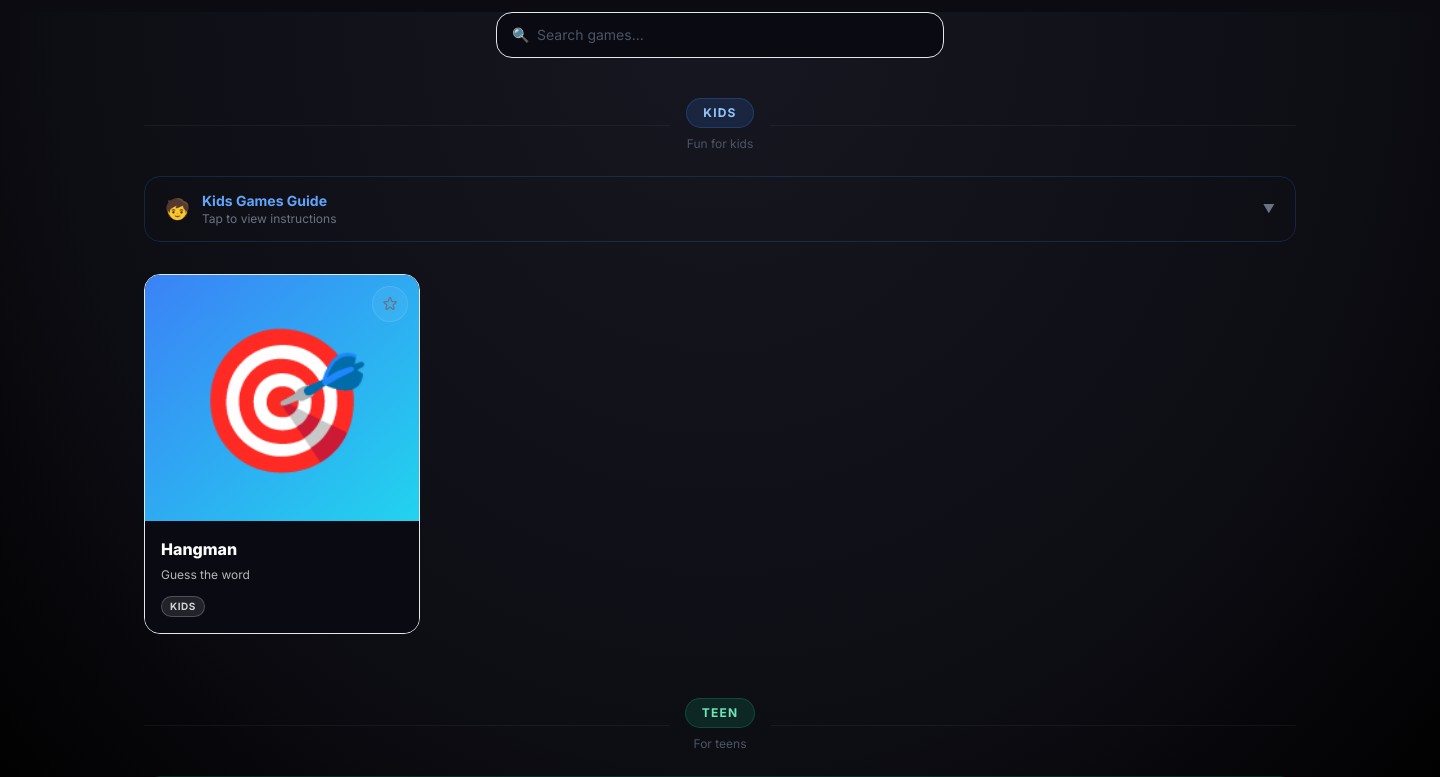
Test: GamesClient › shows result count in aria-live region
This screenshot has width=1440, height=777.
Type "hang" into the search field.
click(720, 35); type("hang")  # box [496,12,944,58]
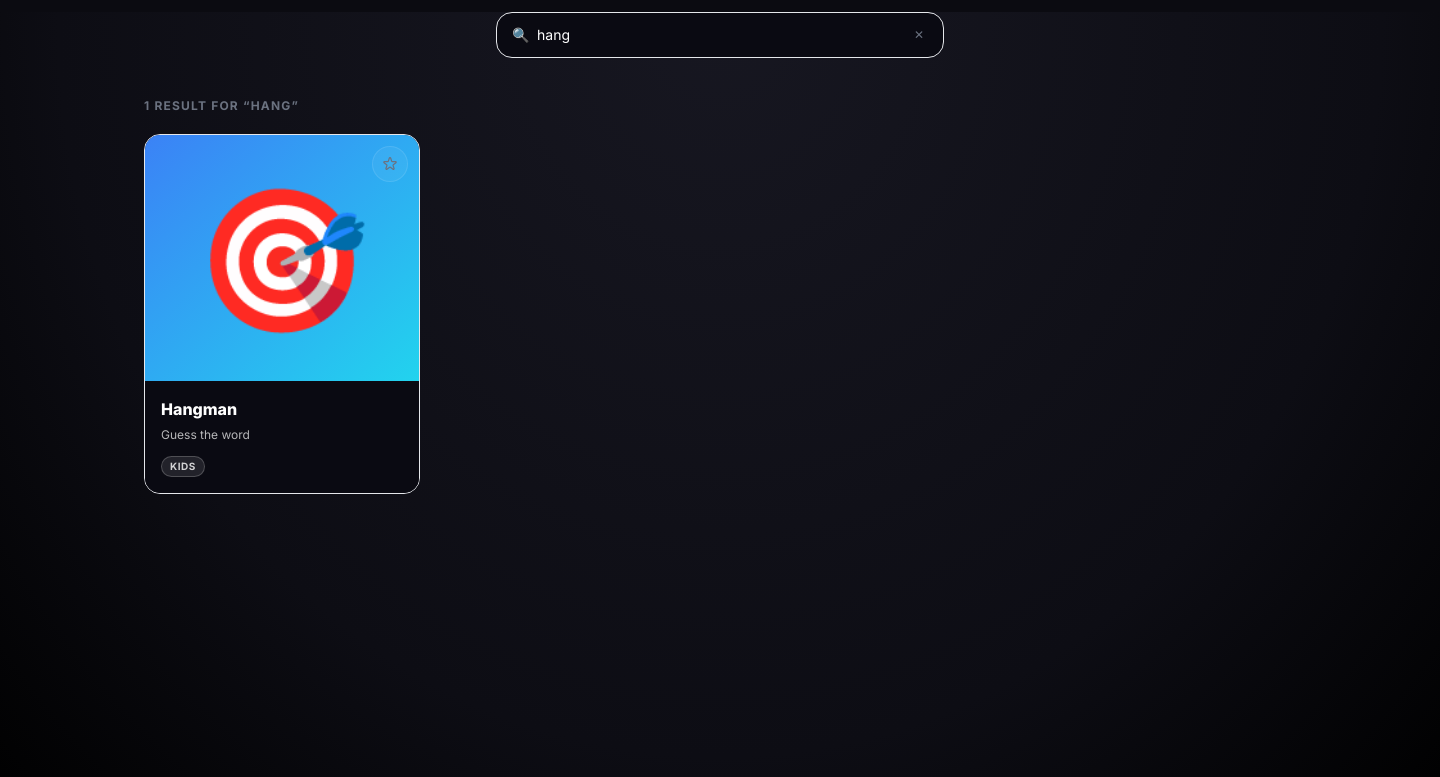
Result: the text "1 result for “hang”" is shown at [144,98,299,113]
